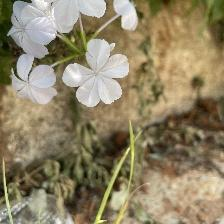chitrak: (63, 38, 129, 108), (11, 1, 55, 58), (14, 56, 57, 107)
